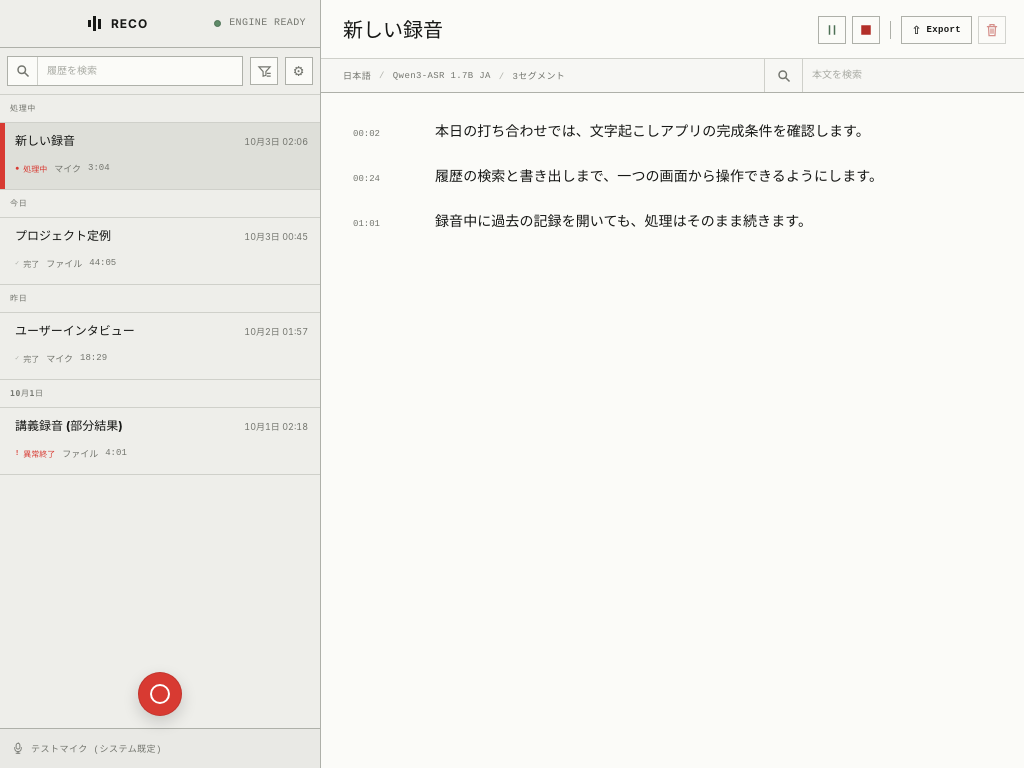
Test: RecoGUI › preserves a fast export completion that arrives before the start response
The width and height of the screenshot is (1024, 768).
Check: the heading "新しい録音" is shown, box [343,18,443,42]
Click the option "プロジェクト定例" at (63, 236), box [0,218,320,285]
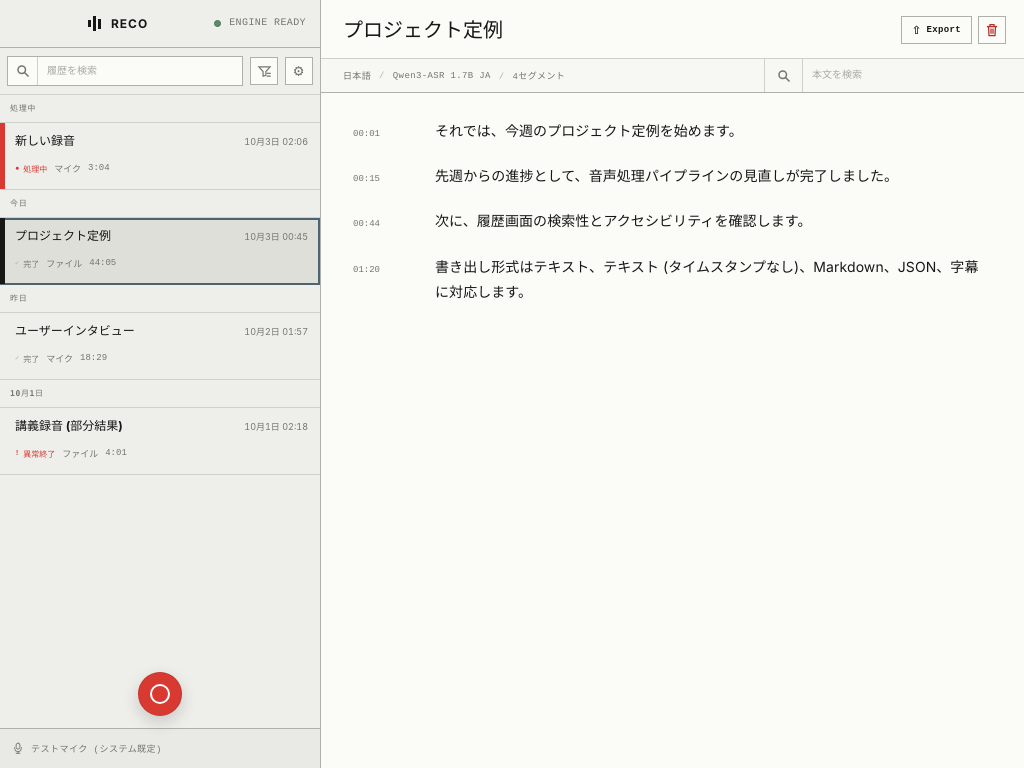
Click the button "⇧ Export" at (936, 30), box [901,16,972,44]
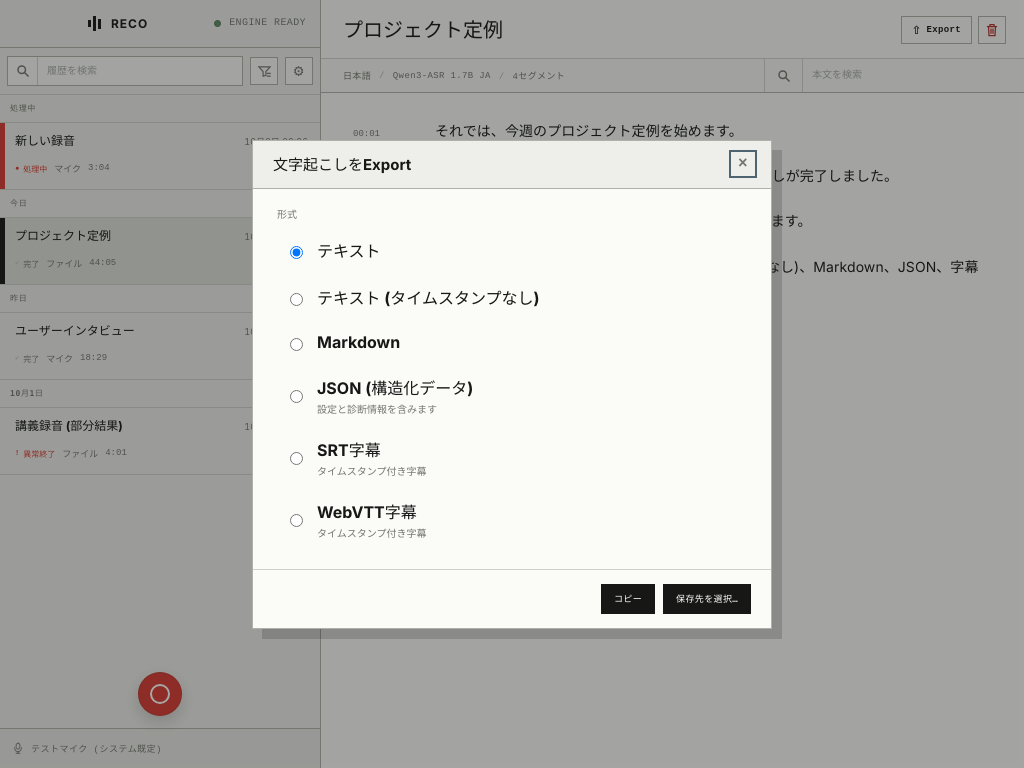
Click the button "保存先を選択…" at (707, 598), box [663,584,751,614]
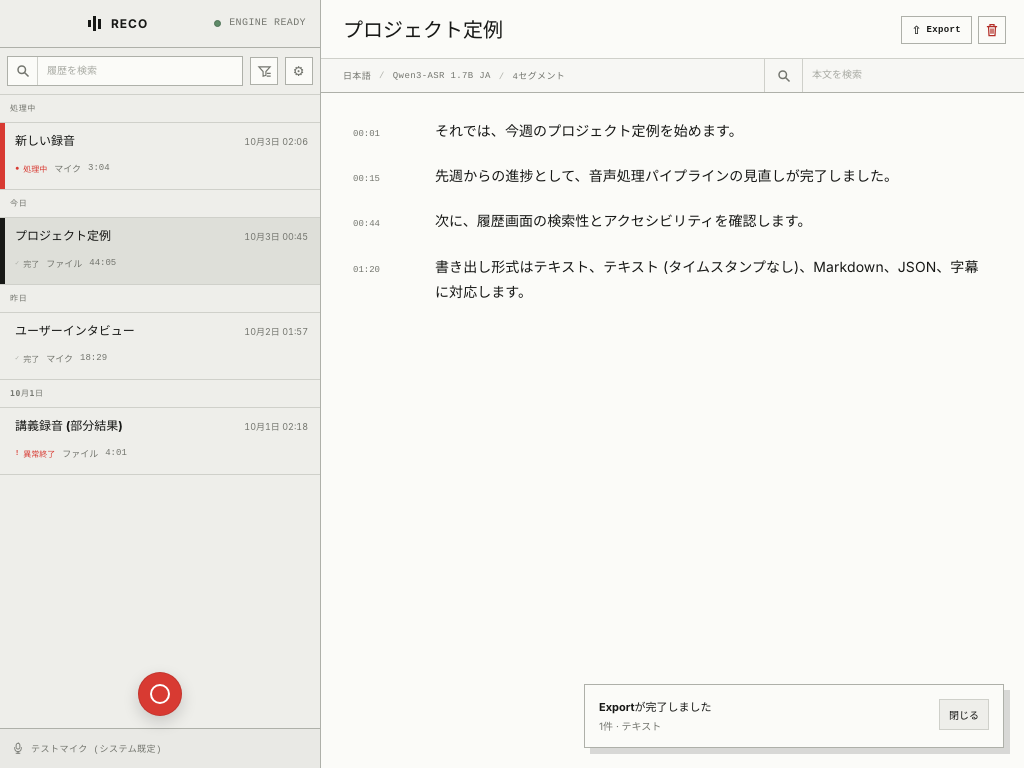
Check: the text "Exportが完了しました" is shown, box [599,700,712,714]
